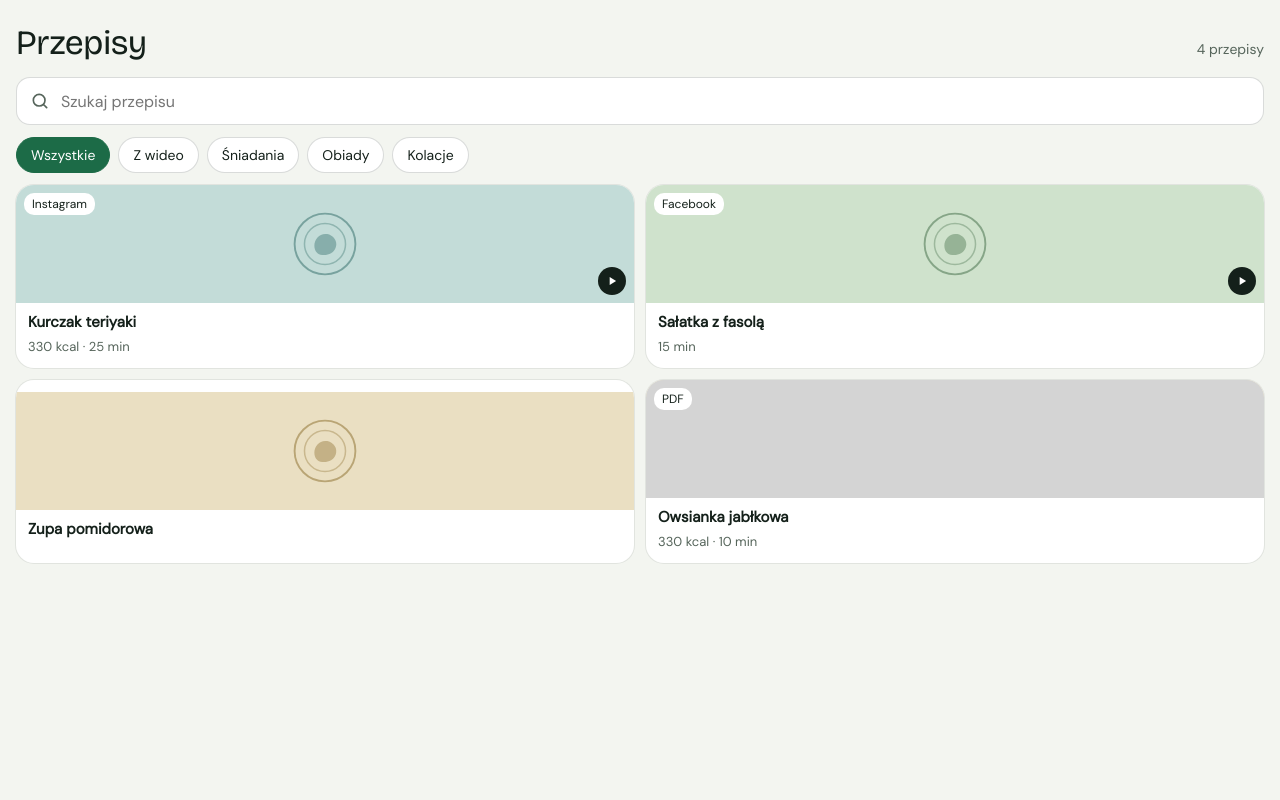
Test: filtr Kolacje pokazuje właściwe karty
Click the button "Kolacje": (431, 155) top-left (392, 133), bottom-right (469, 177)
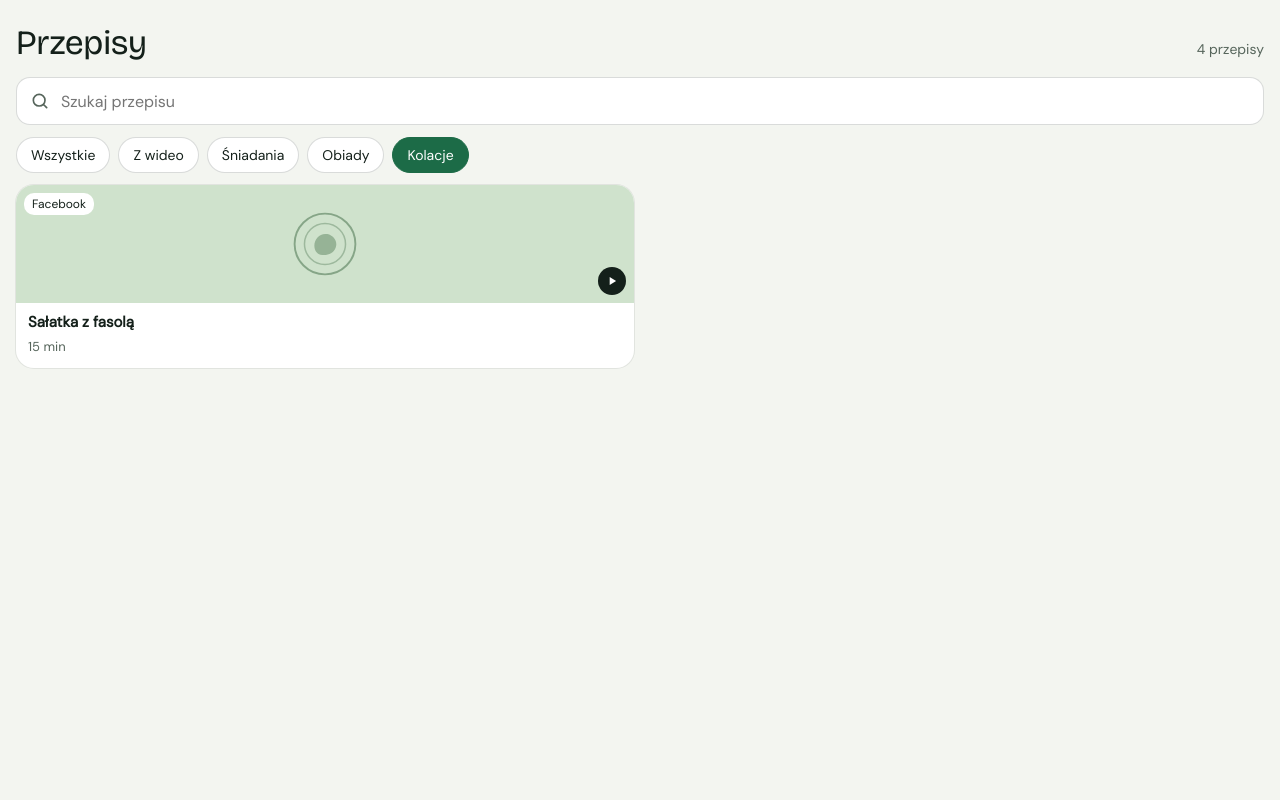
Expected: the text "4 przepisy" is shown, top-left (1197, 40), bottom-right (1264, 60)
Now the number of buttons "Facebook Sałatka z fasolą 15 min" is 1, box top-left (16, 185), bottom-right (634, 368)
